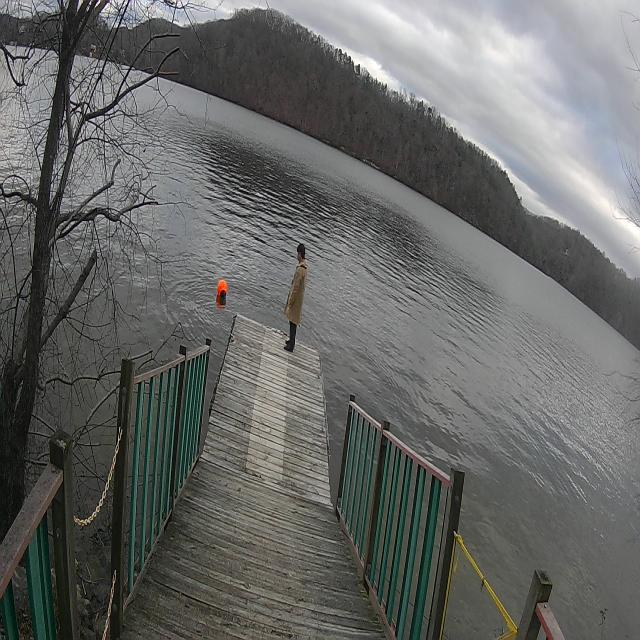Buoy: (215, 272, 231, 305)
